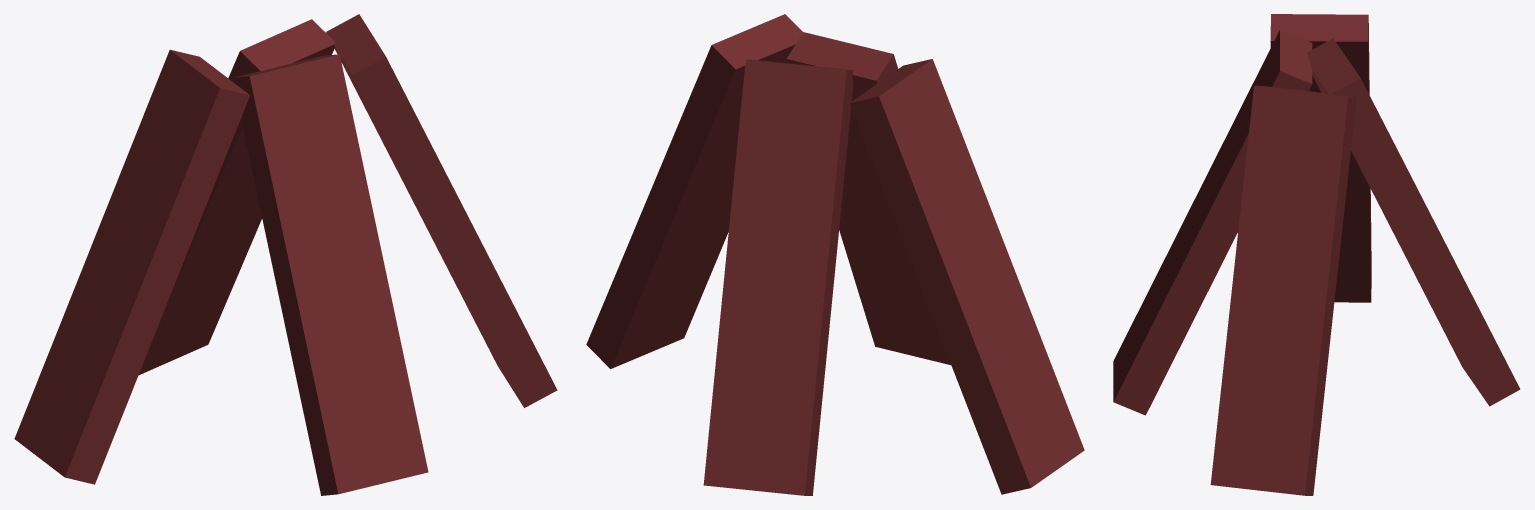
File: fire.fbx
3 views of the same model, side by side, from view 1: azimuth 30°, elevation 25°; view 2: azimuth 150°, elevation 25°; view 3: azimuth 270°, elevation 25° (orthographic). The views are drawn at different scales.
Parts seen in each view (by area): view 1: Cube, Cube.003, Cube.002, Cube.001; view 2: Cube.001, Cube.003, Cube.002, Cube; view 3: Cube.002, Cube, Cube.001, Cube.003.
Part boxes in pixels (box(x1,y1,x2,y2)): Cube: box(232, 54, 428, 495); Cube.003: box(14, 49, 249, 484); Cube.002: box(326, 14, 557, 407); Cube.001: box(138, 19, 334, 375); Cube.001: box(703, 59, 853, 495); Cube.003: box(849, 59, 1084, 494); Cube.002: box(586, 14, 803, 368); Cube: box(786, 32, 950, 364); Cube.002: box(1210, 85, 1356, 495); Cube: box(1113, 30, 1312, 415); Cube.001: box(1307, 38, 1520, 406); Cube.003: box(1270, 14, 1371, 302).
Size of the model in its own units: 260 by 189 by 203.
